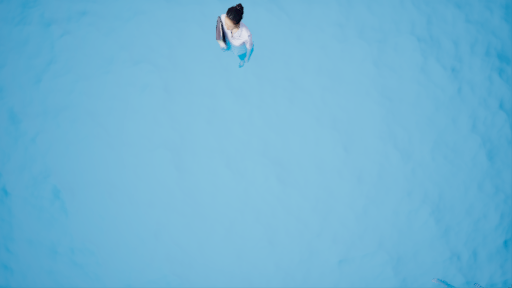person: (206, 8, 270, 65)
